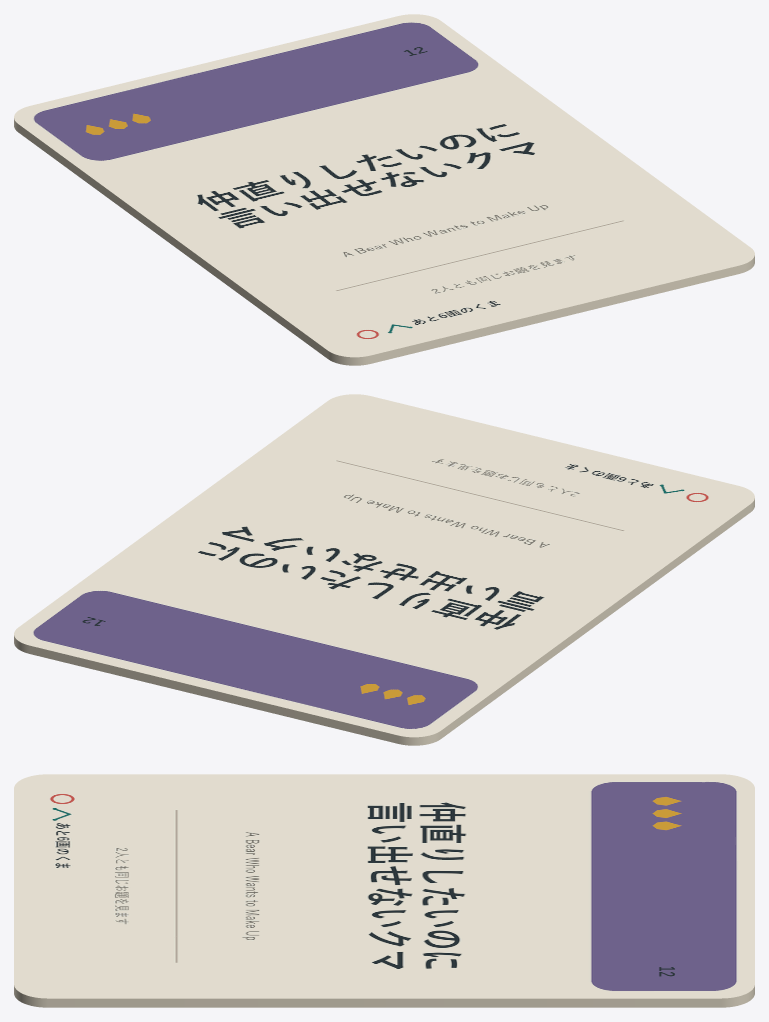
Rendered from prompt_12_make_up.glb.
The picture shows the model from 3 angles, top to bottom: view 1: azimuth 30°, elevation 25°; view 2: azimuth 150°, elevation 25°; view 3: azimuth 270°, elevation 25°; orthographic projection. The views are drawn at different scales.
Visible parts, largest first — view 1: prompt_12_make_up; view 2: prompt_12_make_up; view 3: prompt_12_make_up.
Part boxes in pixels (x1=…): prompt_12_make_up: x1=14, y1=14, x2=754, y2=365; prompt_12_make_up: x1=14, y1=394, x2=754, y2=745; prompt_12_make_up: x1=14, y1=774, x2=754, y2=1007.
Bounding box in the file's own units: 0.063 × 0.0012 × 0.088.
Materials: 3 (2 with a texture image).
